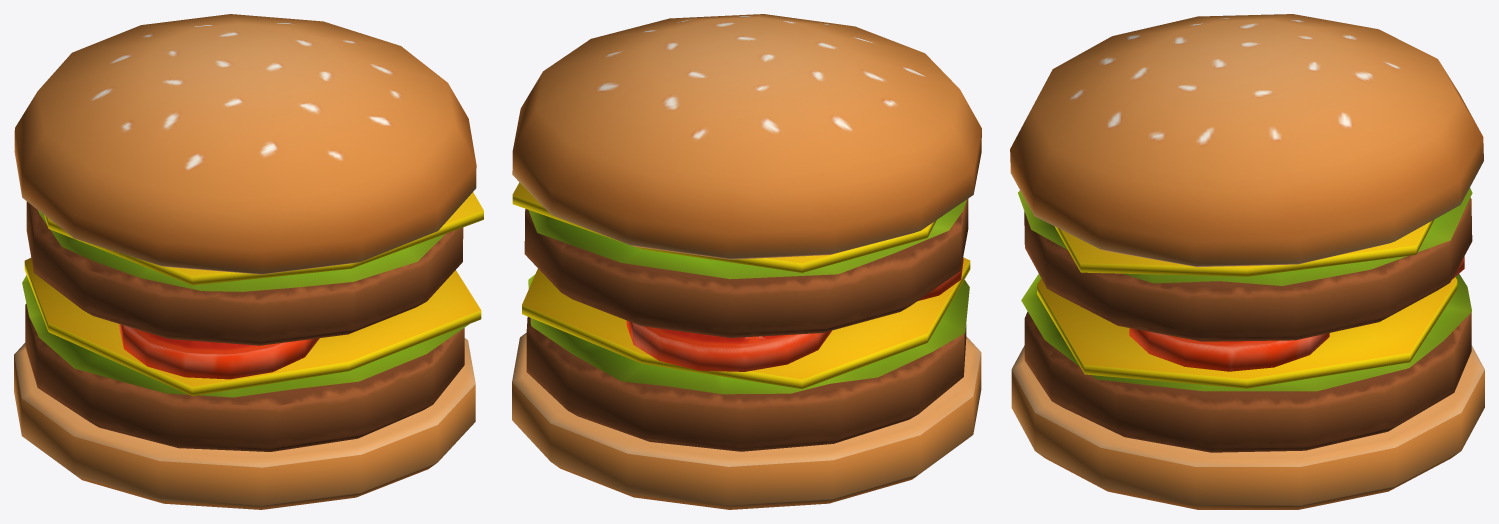
Rendered from FOD0110010.fbx.
The picture shows the model from 3 angles, left to right: view 1: azimuth 30°, elevation 25°; view 2: azimuth 150°, elevation 25°; view 3: azimuth 270°, elevation 25°; orthographic projection.
Parts seen in each view (by area): view 1: smFOD0110010; view 2: smFOD0110010; view 3: smFOD0110010.
Boxes of the visible parts, x1,y1,x2,y2 form: smFOD0110010: [14, 14, 483, 509]; smFOD0110010: [512, 14, 981, 509]; smFOD0110010: [1010, 14, 1484, 509].
Bounding box in the file's own units: 11.94 × 10.36 × 12.29.
1 material, 1 textured.
